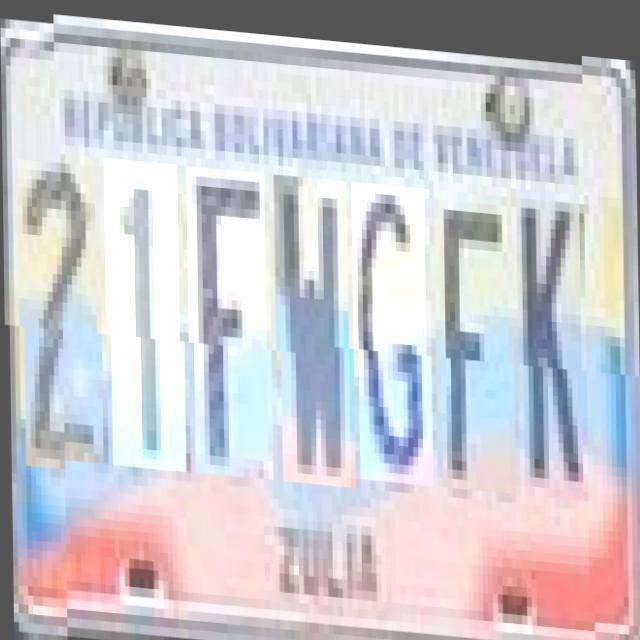1: (109, 157, 184, 468)
2: (21, 150, 102, 462)
F: (191, 163, 272, 475), (438, 182, 514, 484)
G: (356, 175, 432, 478)
K: (520, 178, 588, 489)
W: (278, 170, 354, 480)
